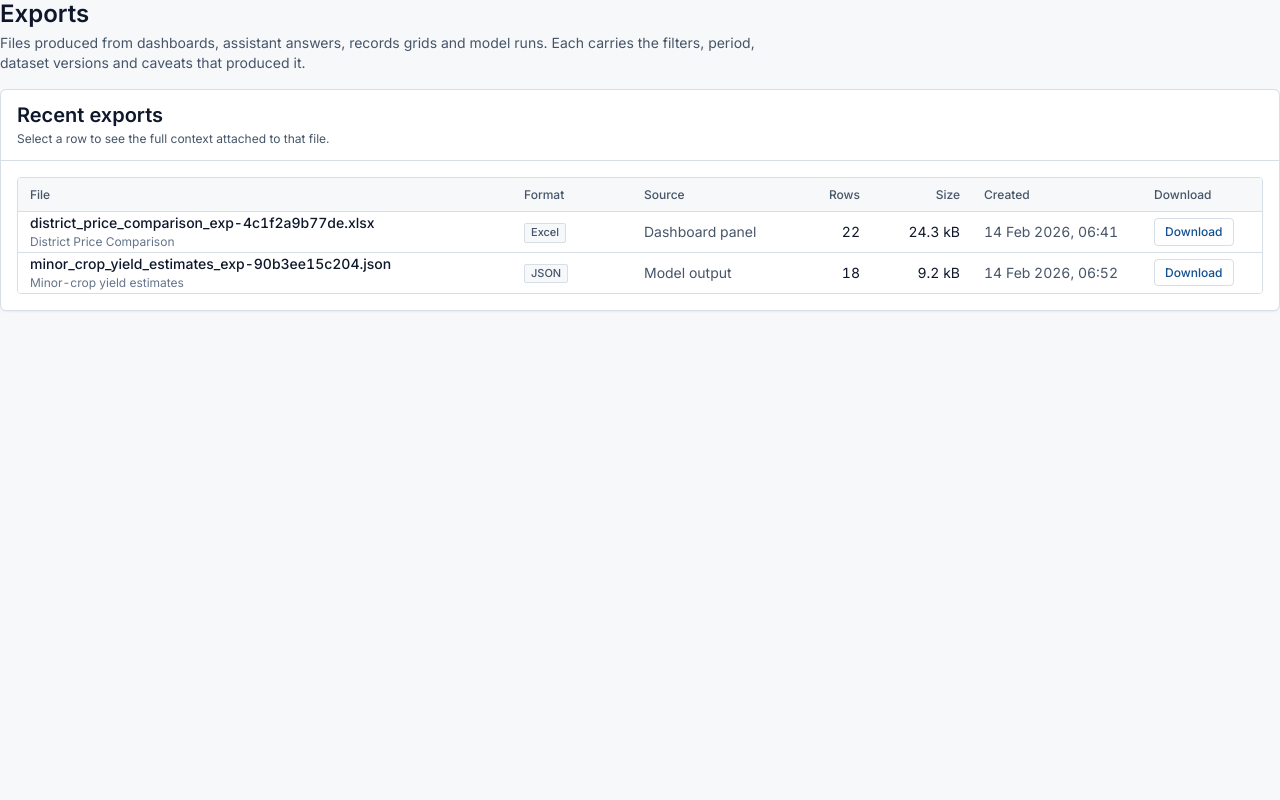
it: Exports (RFP area 8) › renders filter and context values using master display names with IDs in brackets in the drawer
Click the text "district_price_comparison_exp-4c1f2a9b77de.xlsx".
click(202, 223)  # box [30,214,375,231]
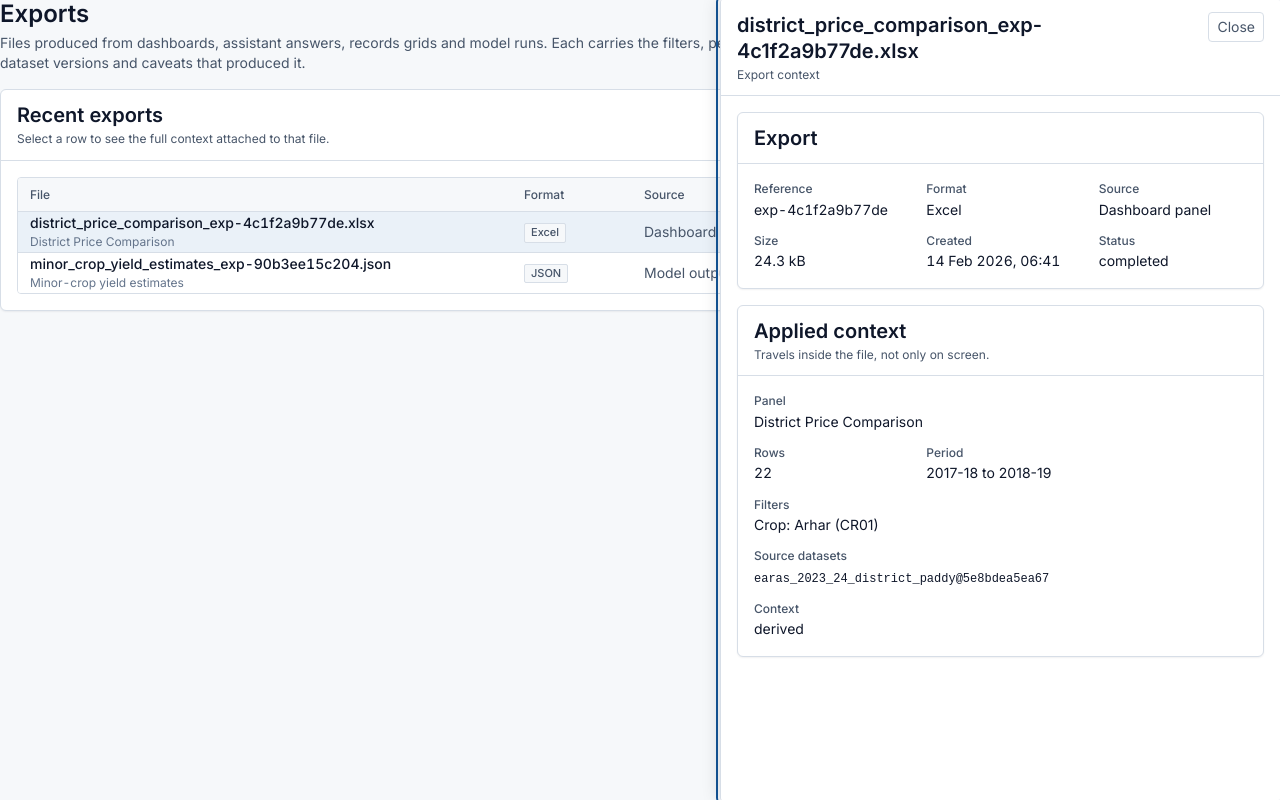
Expected: the heading "Applied context" is shown, [754,319,906,343]
Expected: the text "Crop: Arhar (CR01)" is shown, [754,516,879,533]
